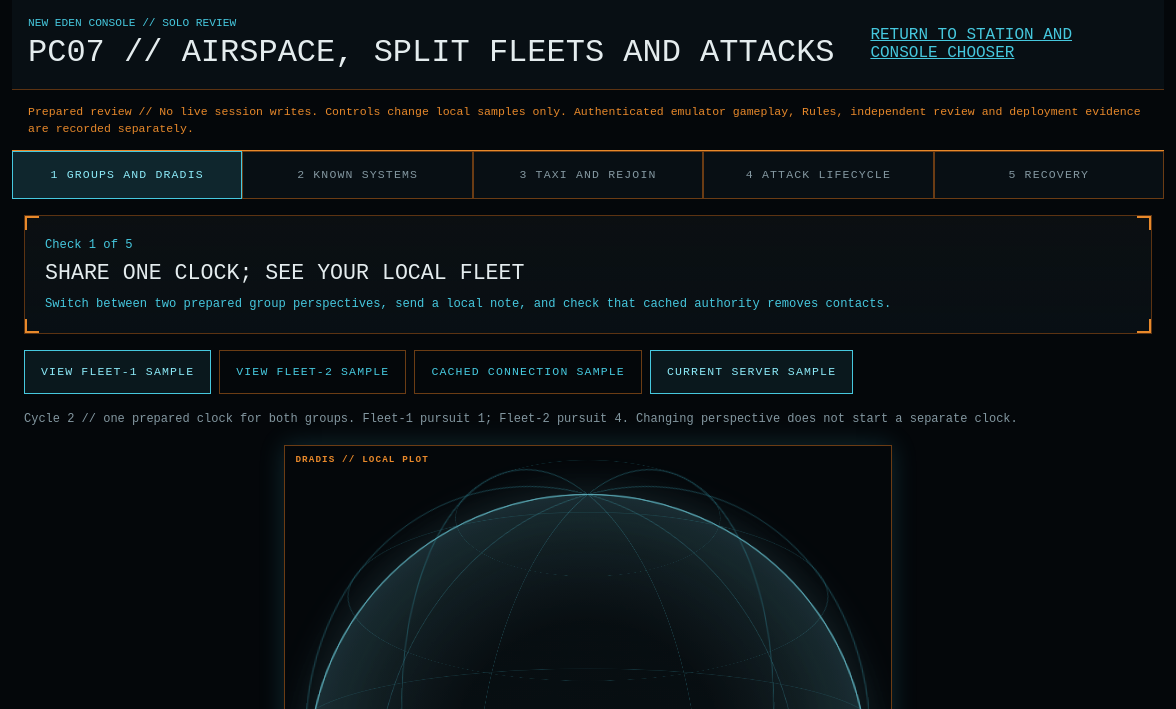
Test case: retains a reusable charged combat console in the prepared use result
Click the button "4 Attack lifecycle" at [818, 175], box [703,151,934,199]
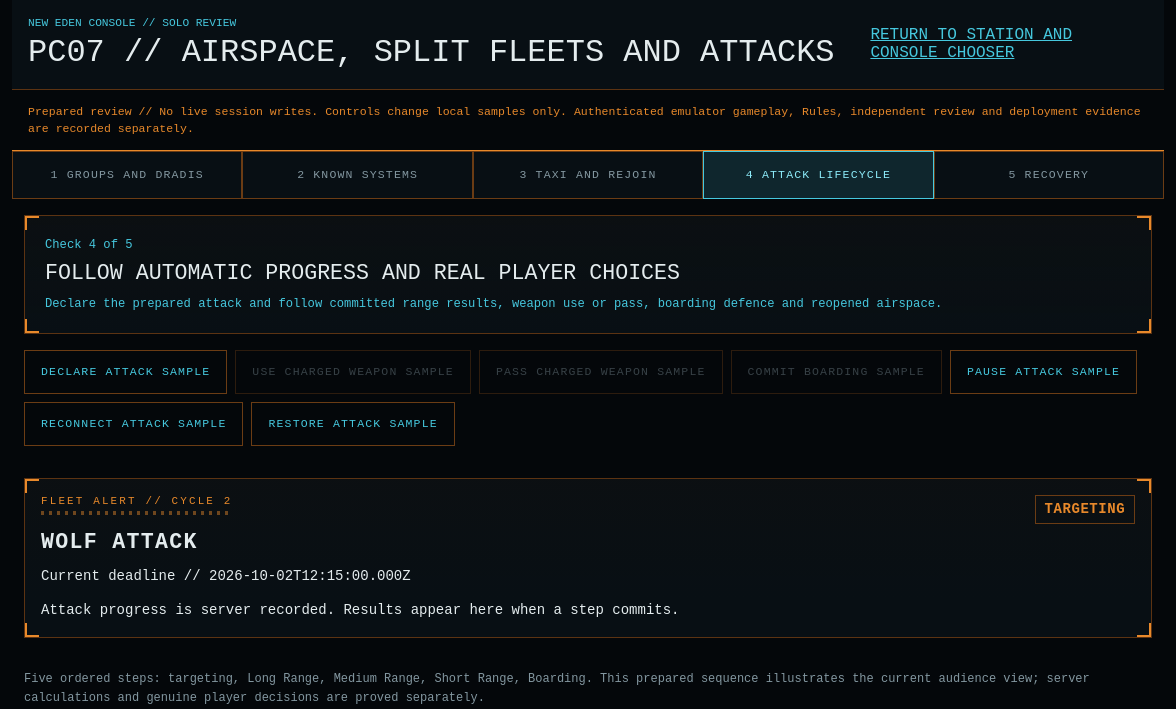
Click the button "Declare attack sample" at [126, 372], box [24,350,227,394]
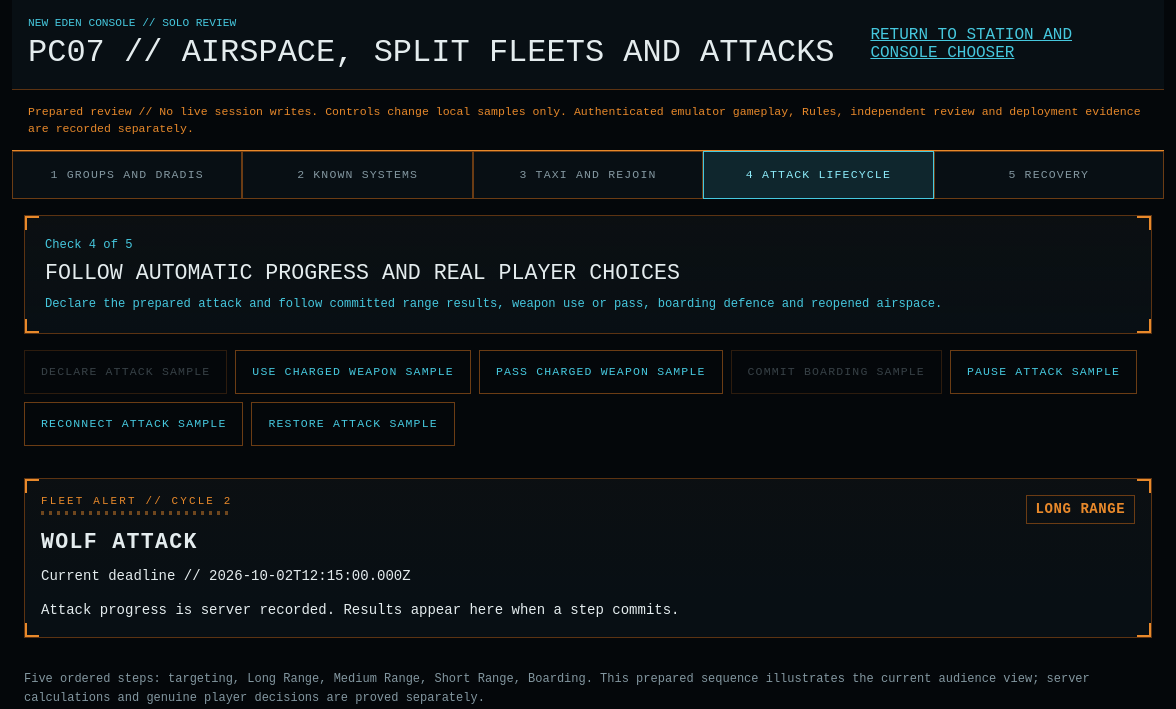
Click the button "Use charged weapon sample" at [353, 372], box [235,350,471,394]
(page scrolled)
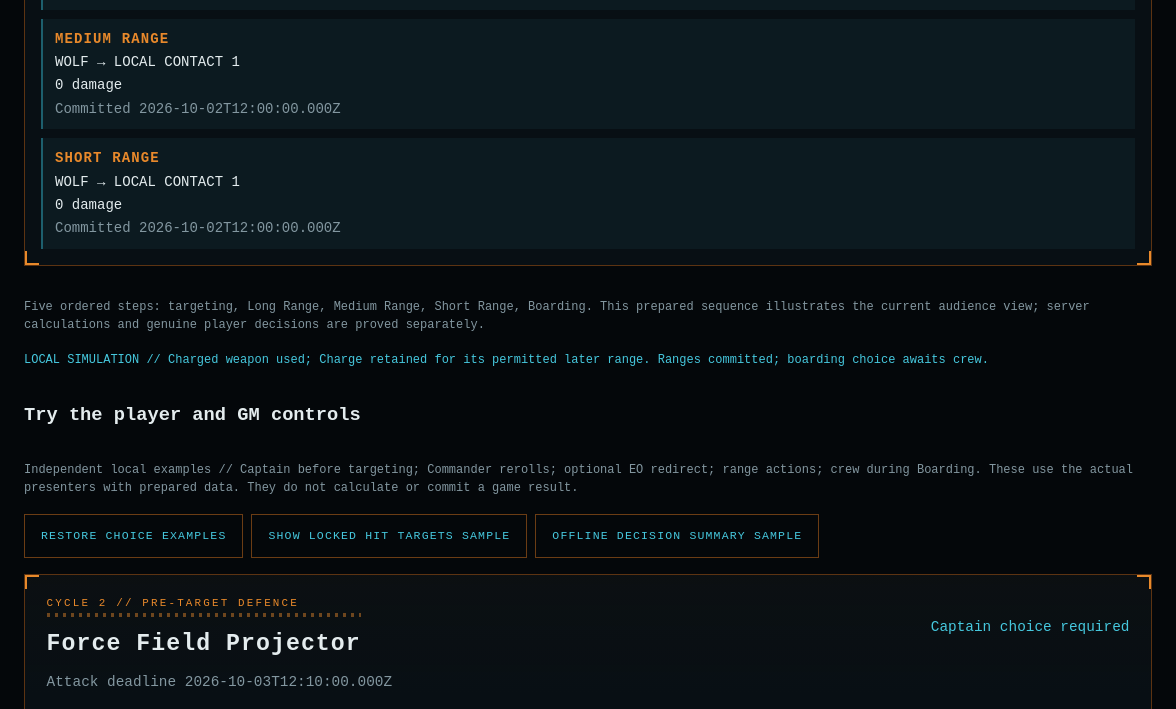
Expected: the message named "Attack sample result" shows "Charge retained", [24,353,989,367]
